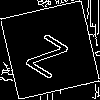Z: (25, 25, 75, 79)
